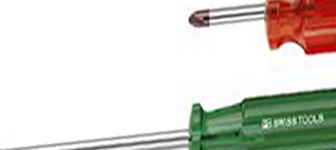screwdriver: (2, 95, 336, 150)
